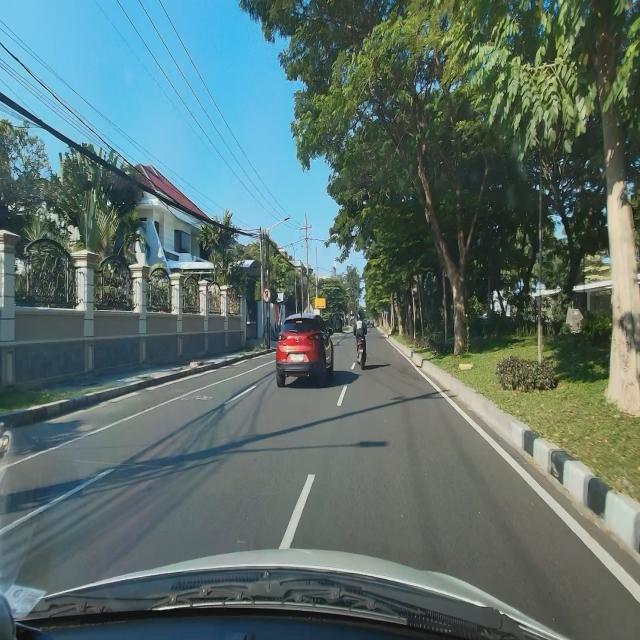car: (275, 313, 334, 388)
license-plate: (290, 353, 304, 362)
